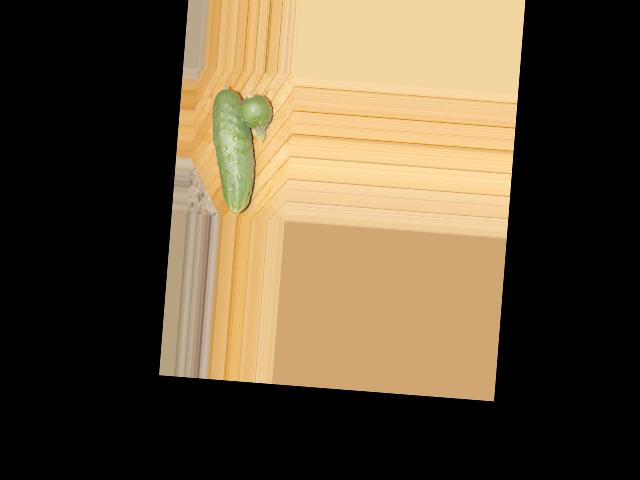cucumber: (205, 87, 261, 214)
